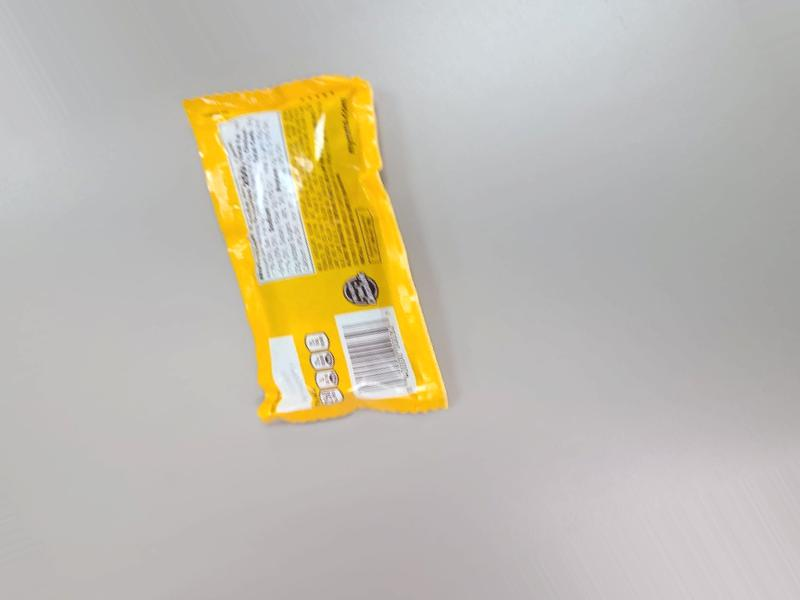m&m: (163, 71, 438, 435)
